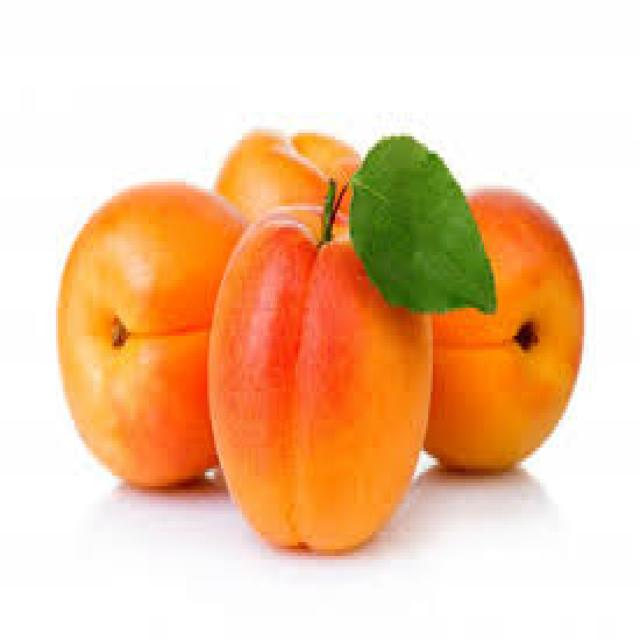kayisi: (209, 131, 496, 553)
